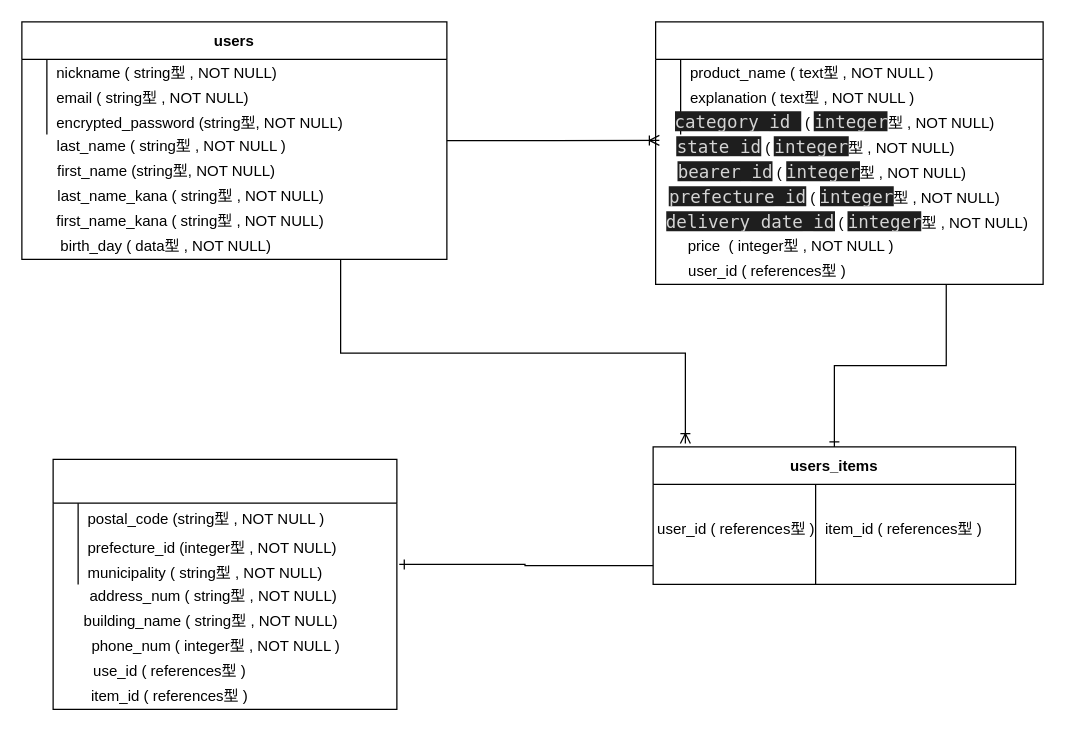
This 1065x731 diagram has some shape labels left out. Here are the shapes that lost their labels. From the top down, the box of each, then its label:
(654, 21, 1043, 284): items
(52, 458, 397, 709): addresses
